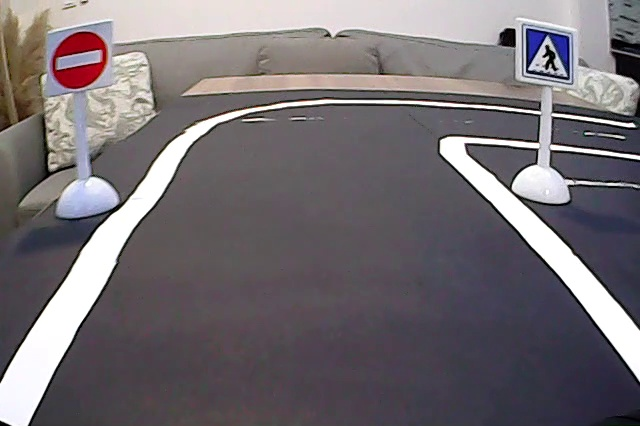do not enter: (52, 31, 114, 93)
pedestrian crossing: (518, 22, 576, 86)
